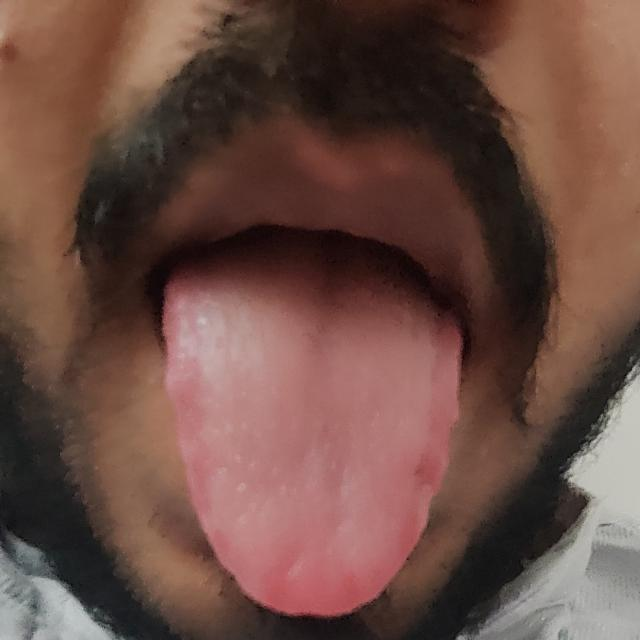No Cancer: (218, 337, 400, 533)
